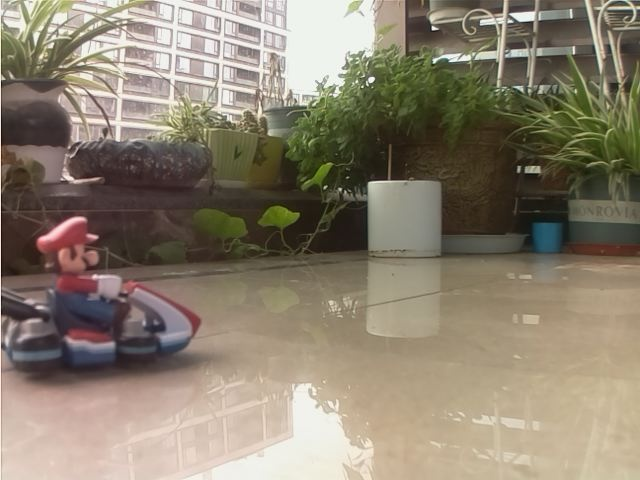mario: (5, 211, 210, 381)
